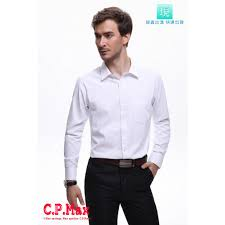F_shirt: (63, 59, 170, 181)
